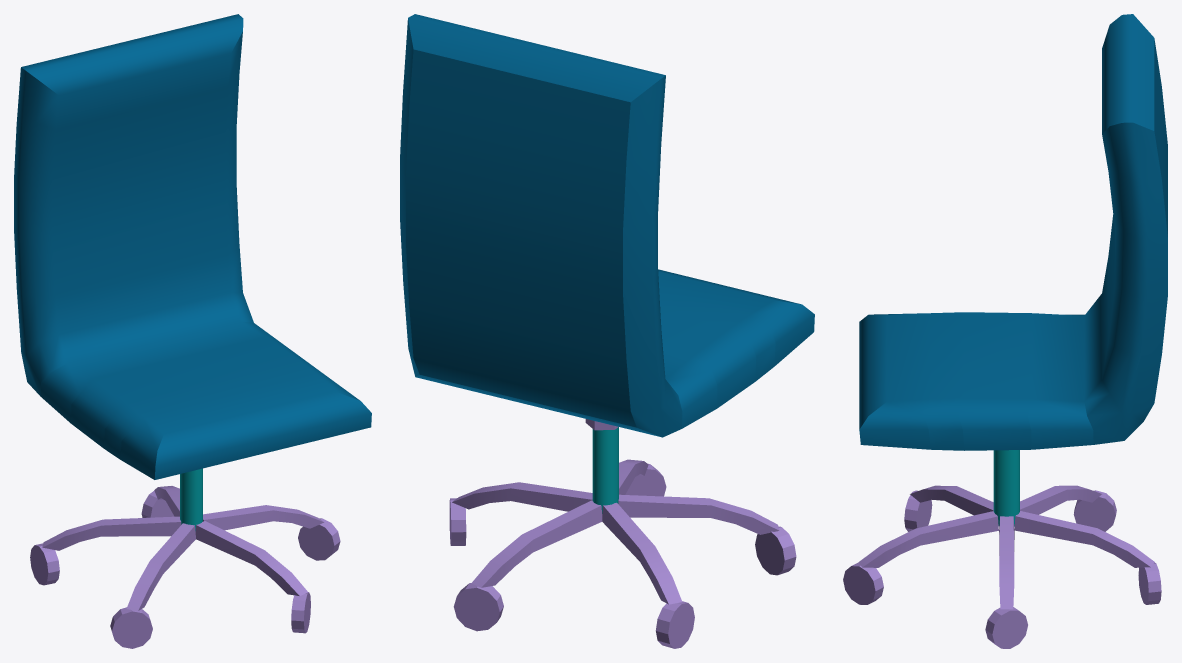
The model's file is NewRollingChair.fbx.
The picture shows the model from 3 angles, left to right: view 1: azimuth 30°, elevation 25°; view 2: azimuth 150°, elevation 25°; view 3: azimuth 270°, elevation 25°; orthographic projection. The views are drawn at different scales.
Visible parts, largest first — view 1: RollingChair; view 2: RollingChair; view 3: RollingChair.
Part boxes in pixels (box(x1,y1,x2,y2)): RollingChair: box(14, 14, 371, 648); RollingChair: box(400, 14, 814, 648); RollingChair: box(843, 14, 1167, 648).
Size of the model in its own units: 1356 by 2472 by 1414.
